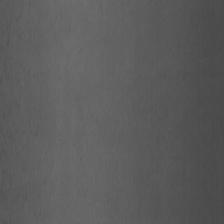silk_spot: (2, 28, 40, 155)
